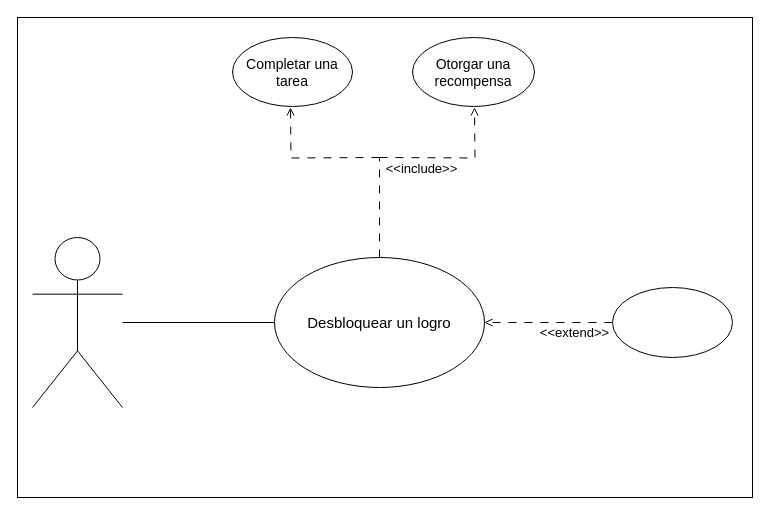
This 770x515 diagram has some shape labels left out. The shapes that lost their labels are listed below. From the top down, each one's centre as x and y in pixels, then its label:
pixel 77 322: Actor
pixel 672 322: Mostrar notificación
